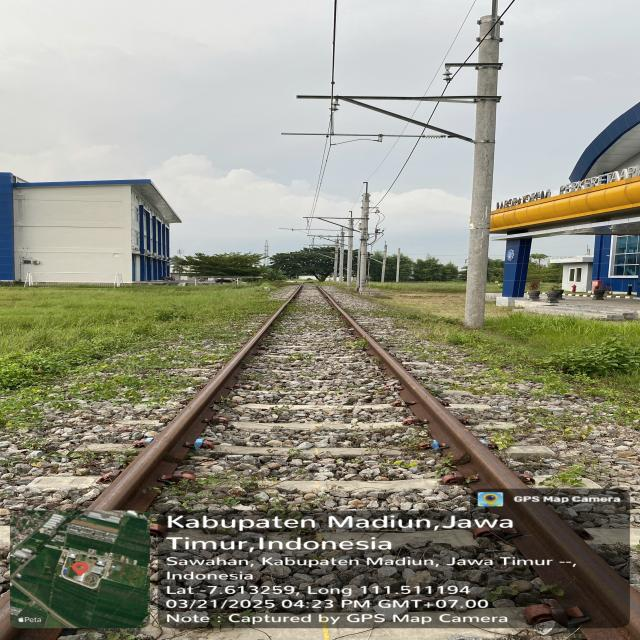rail-detection: (315, 287, 640, 635), (90, 286, 304, 510)
